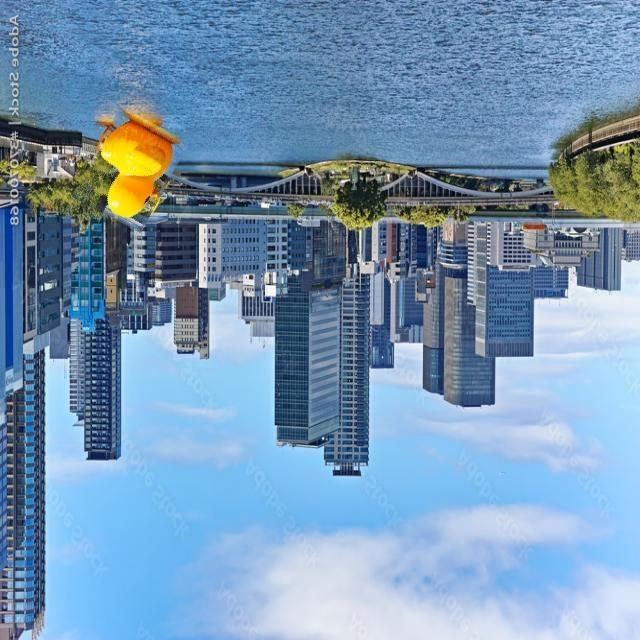rubber-duck: (99, 110, 178, 216)
